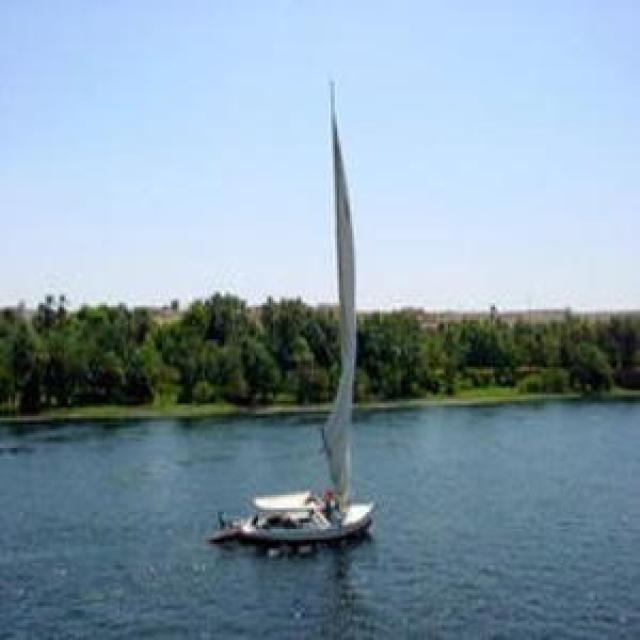sailboat: (179, 75, 378, 542)
